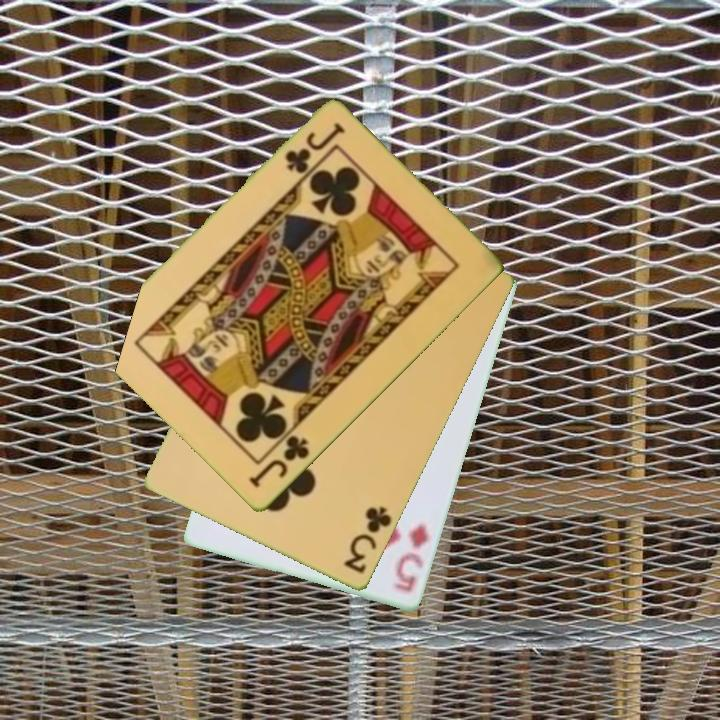3c: (341, 503, 395, 577)
5d: (389, 520, 433, 596)
Jc: (245, 432, 312, 492), (281, 119, 347, 177)
